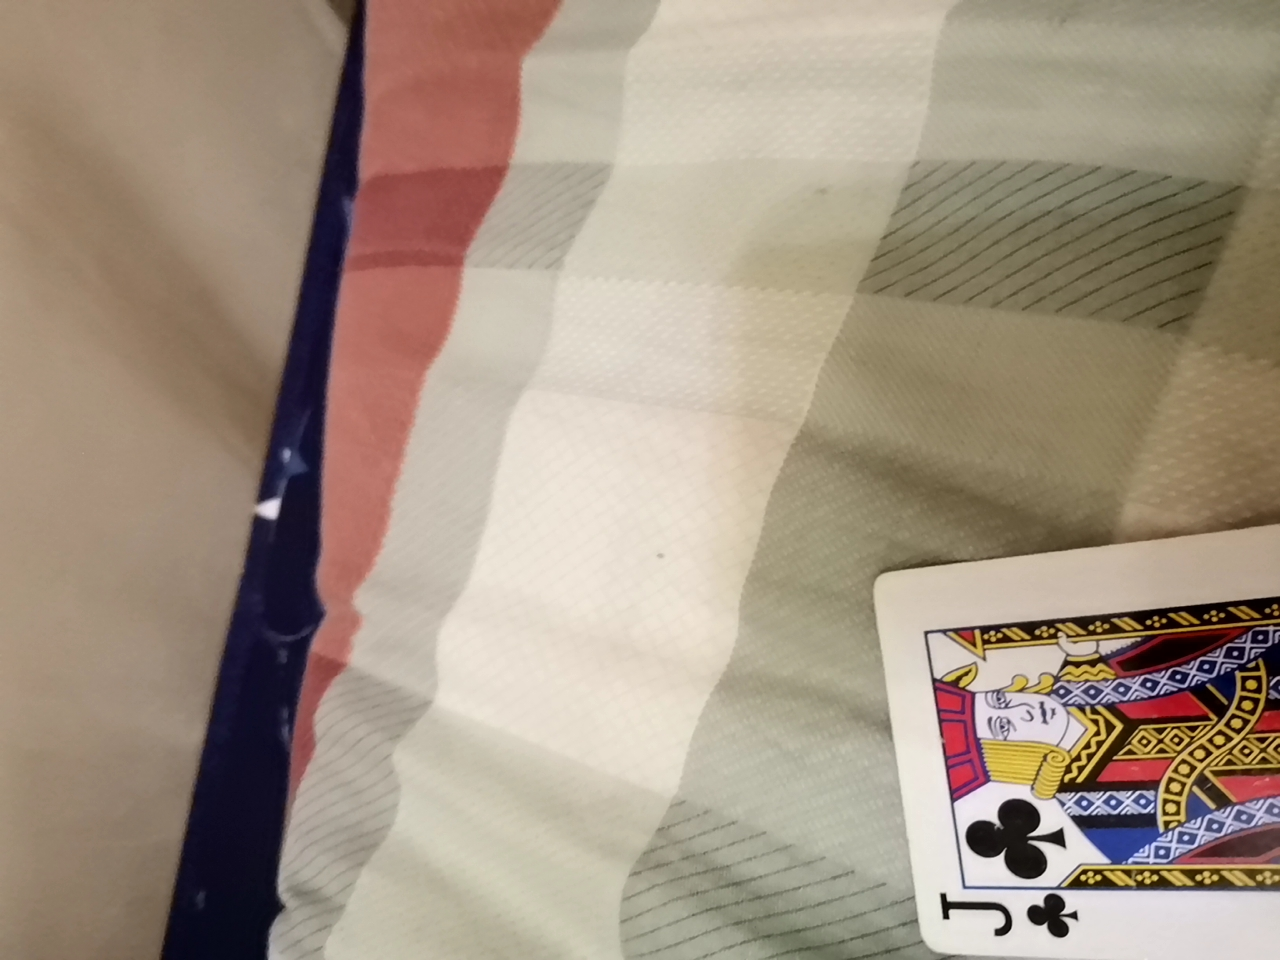mh j: (882, 487, 1276, 954)
